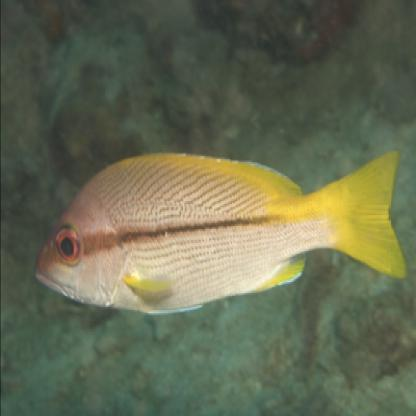Lutjanidae -Snappers-: (30, 147, 411, 322)
